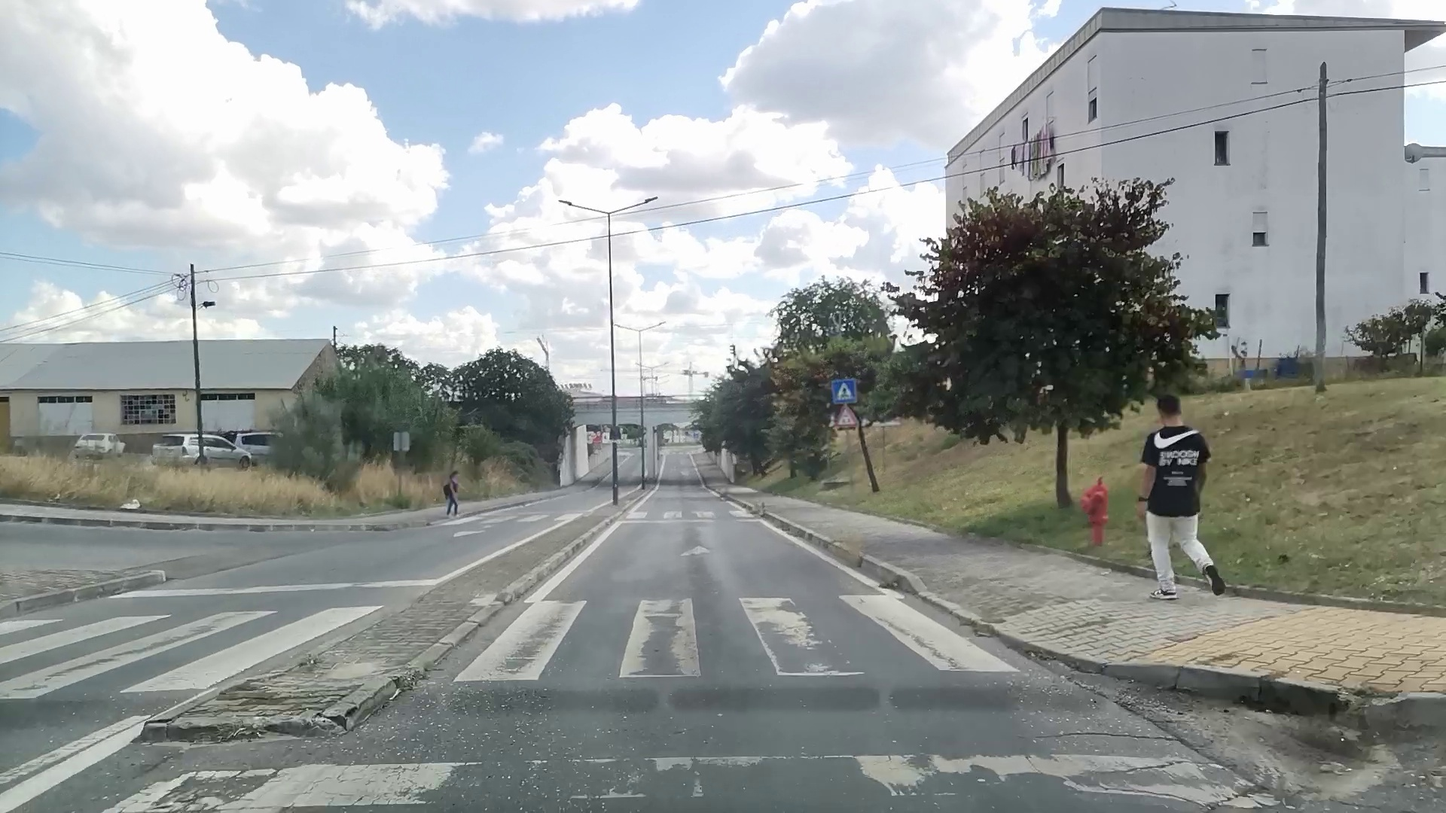Stairs: (448, 592, 1019, 684), (0, 600, 382, 706), (445, 509, 583, 523), (630, 507, 754, 521)
